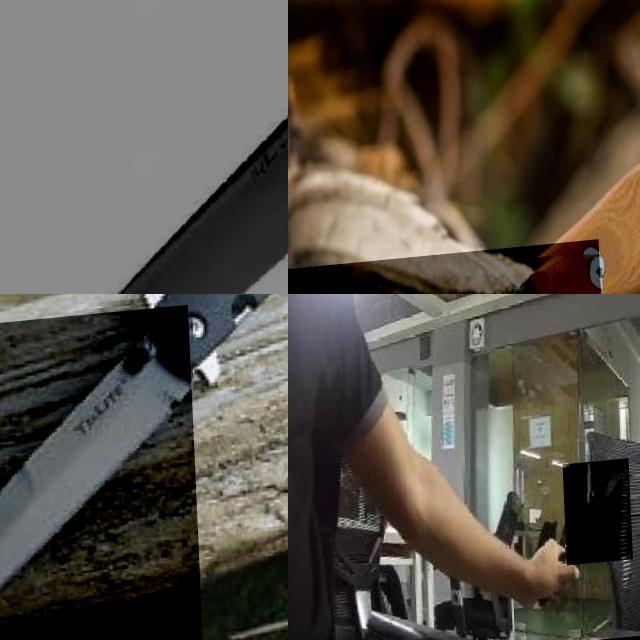-: (0, 0, 288, 294), (0, 311, 197, 640), (558, 467, 628, 572)
